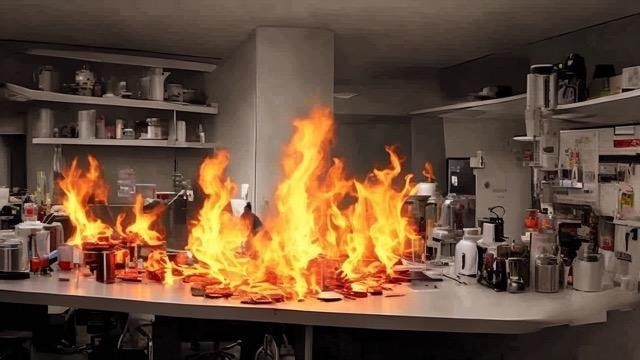fire: (61, 123, 430, 318)
